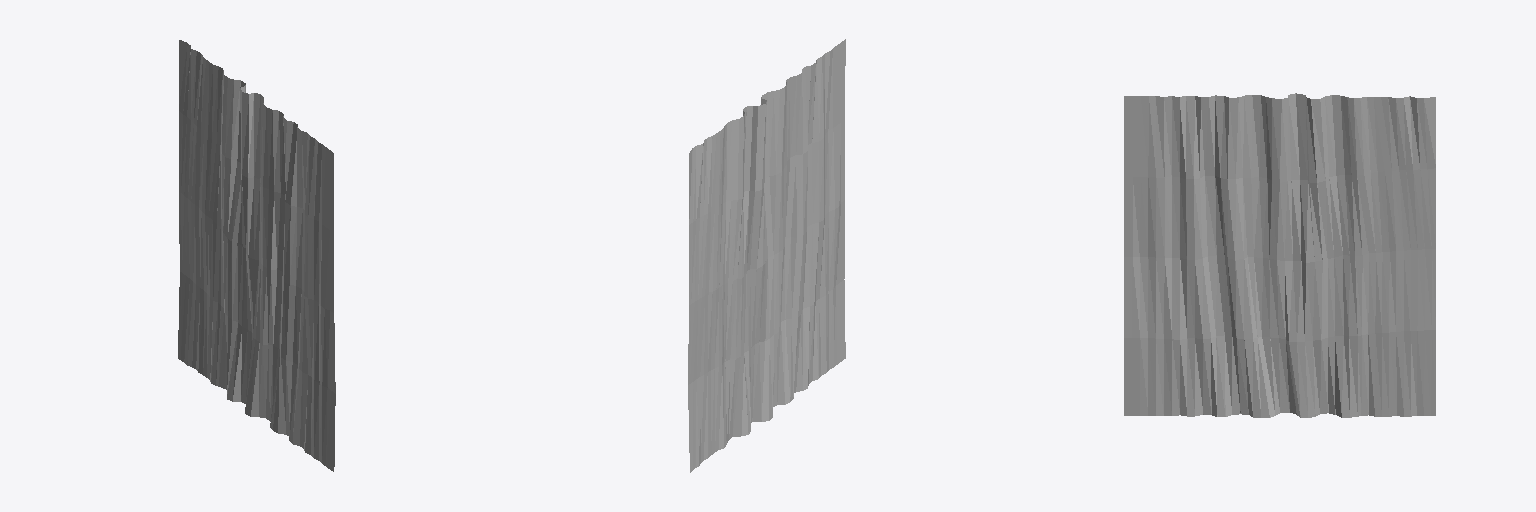
The model's file is curtain.obj.
3 views of the same model, side by side, from view 1: azimuth 30°, elevation 25°; view 2: azimuth 150°, elevation 25°; view 3: azimuth 270°, elevation 25° (orthographic).
Parts seen in each view (by area): view 1: curtain_Plane; view 2: curtain_Plane; view 3: curtain_Plane.
Part boxes in pixels (x1,y1,x2,y2): curtain_Plane: (178, 40, 335, 471); curtain_Plane: (688, 39, 845, 472); curtain_Plane: (1124, 93, 1435, 417).
Size of the model in its own units: 0.4615 by 11.42 by 10.12.